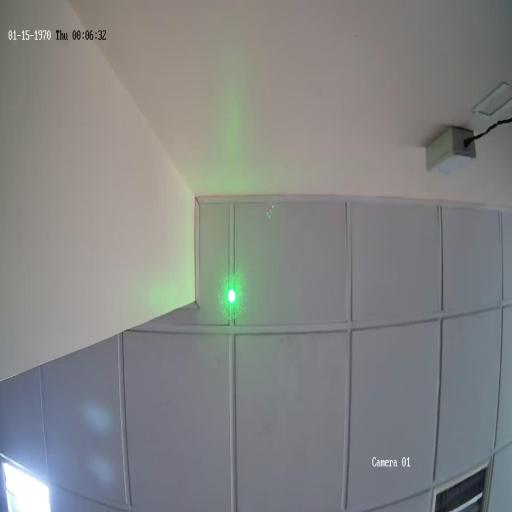laser: (219, 270, 243, 318)
